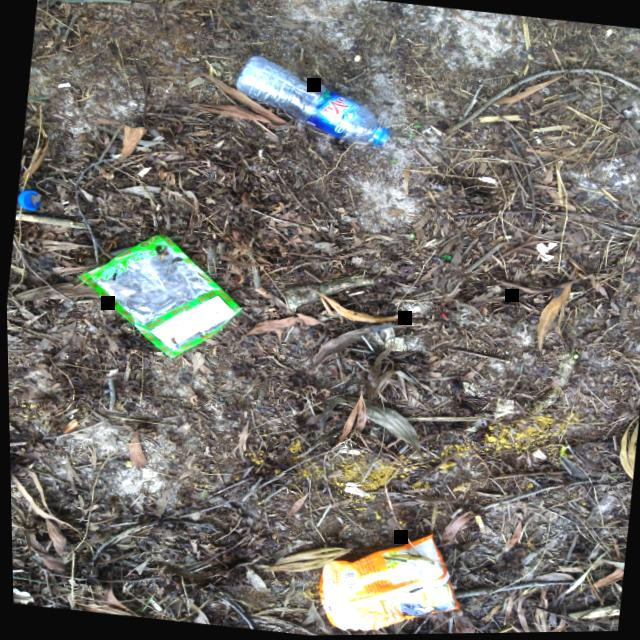Clear plastic bottle: (235, 56, 390, 146)
Other plastic: (76, 233, 241, 358), (315, 535, 456, 630)
Plastic bottle cap: (17, 189, 39, 209)
